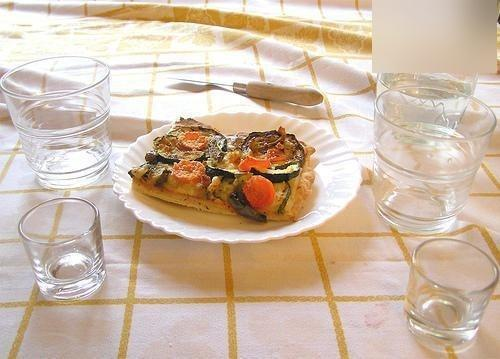glass-normal: (370, 84, 496, 237), (1, 56, 113, 190), (403, 238, 499, 355), (17, 198, 105, 300)
